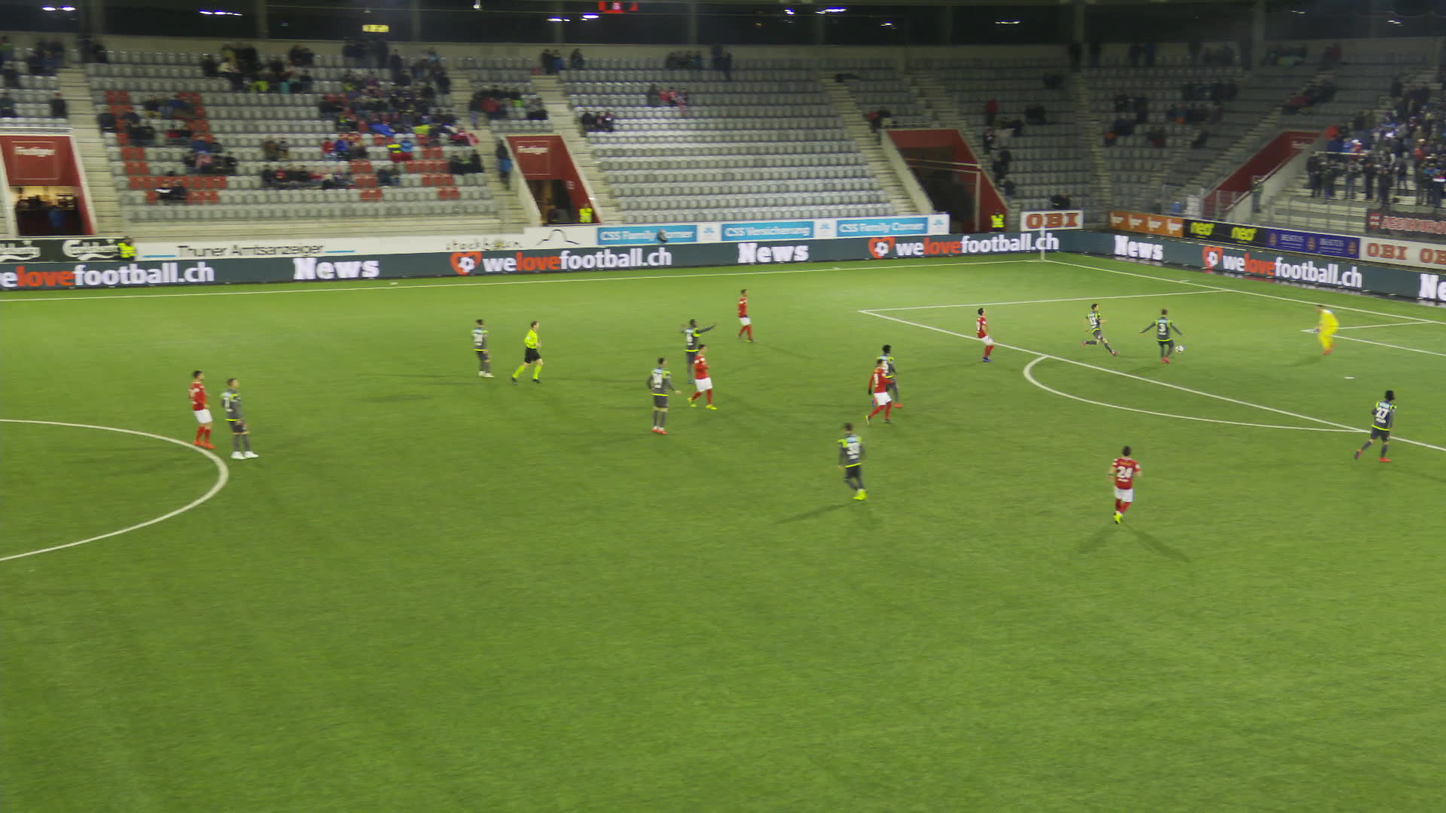ball: (1177, 344, 1187, 352)
player: (1355, 389, 1402, 463), (220, 378, 258, 459), (840, 423, 877, 501), (1108, 446, 1143, 525), (648, 358, 684, 434), (1143, 308, 1186, 365), (193, 370, 224, 446), (685, 343, 718, 410), (685, 318, 720, 380), (879, 342, 908, 407), (1317, 299, 1350, 353), (867, 358, 892, 423), (1083, 303, 1112, 355), (974, 307, 1001, 361), (471, 318, 494, 376), (740, 288, 758, 342)
referee: (519, 324, 546, 383)
